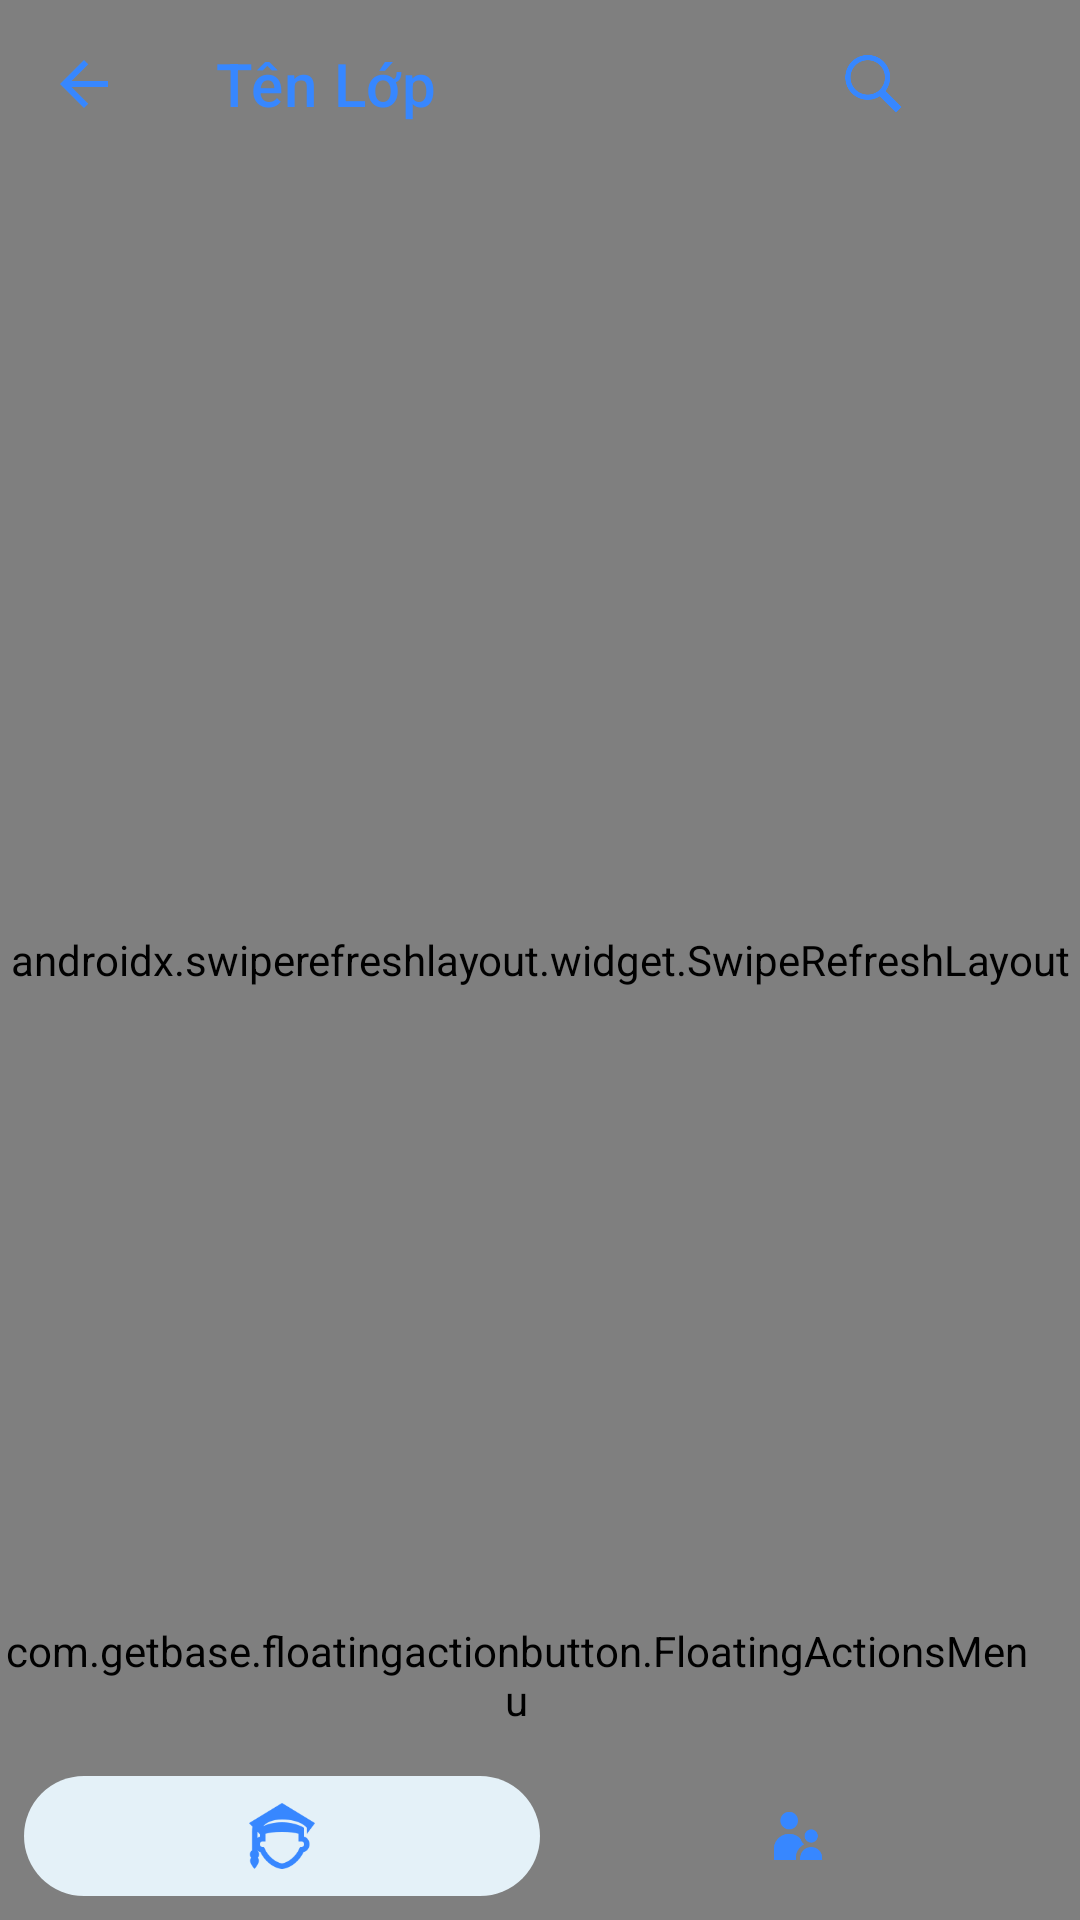

Point at icon controls on the screen. Image size 1080px x 1920px, points as (x,y).
search: (873,83)
